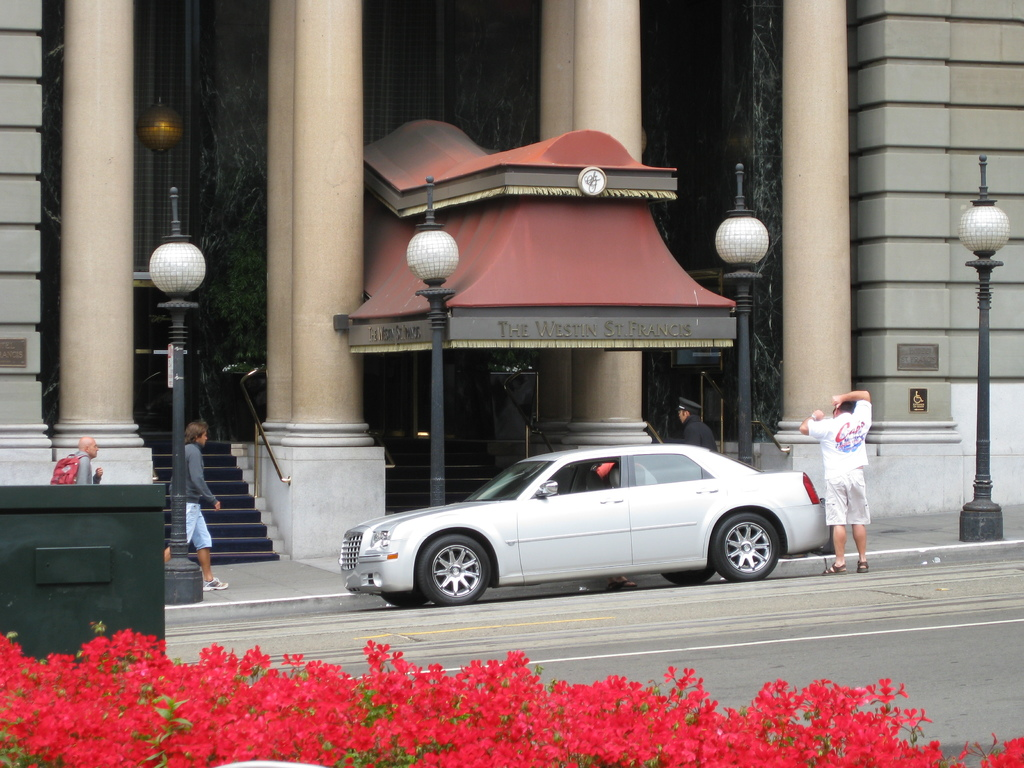cars: (338, 441, 832, 607)
